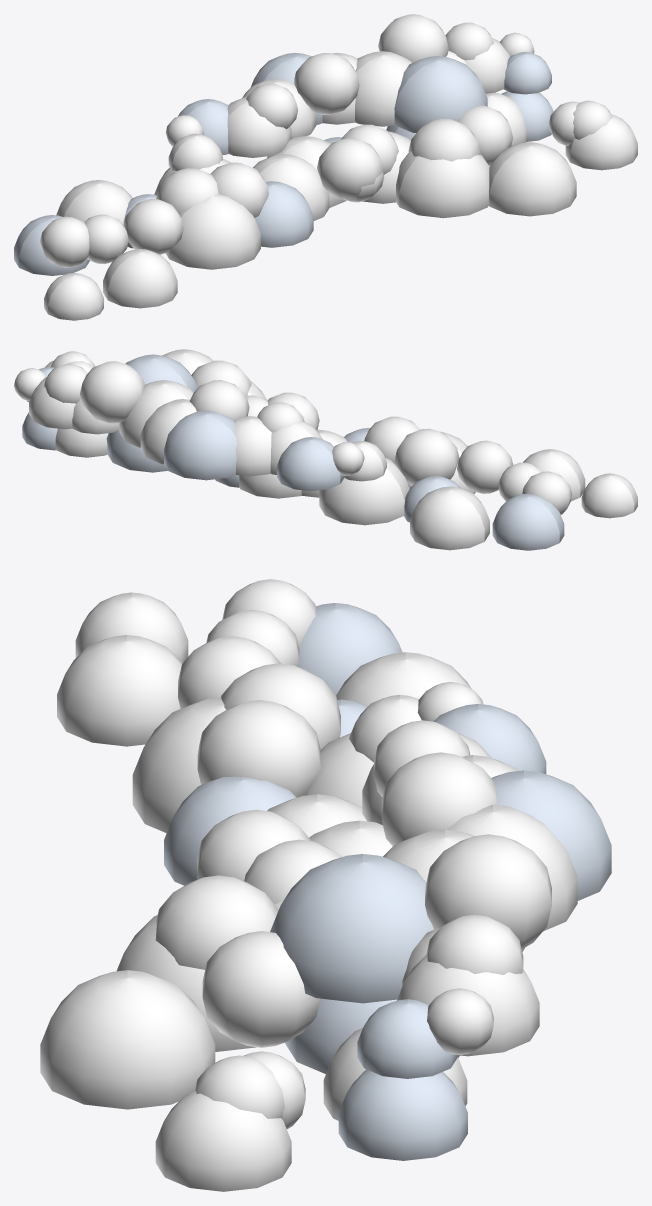
The model's file is CloudLarge.glb.
The picture shows the model from 3 angles, top to bottom: view 1: azimuth 30°, elevation 25°; view 2: azimuth 150°, elevation 25°; view 3: azimuth 270°, elevation 25°; orthographic projection. The views are drawn at different scales.
Visible parts, largest first — view 1: Body; view 2: Body; view 3: Body.
Boxes of the visible parts, bbox=[...] form: Body: bbox=[14, 14, 637, 320]; Body: bbox=[14, 349, 637, 550]; Body: bbox=[40, 579, 611, 1191].
Size of the model in its own units: 44.16 by 8.03 by 19.11.
Materials: 1 (1 with a texture image).
